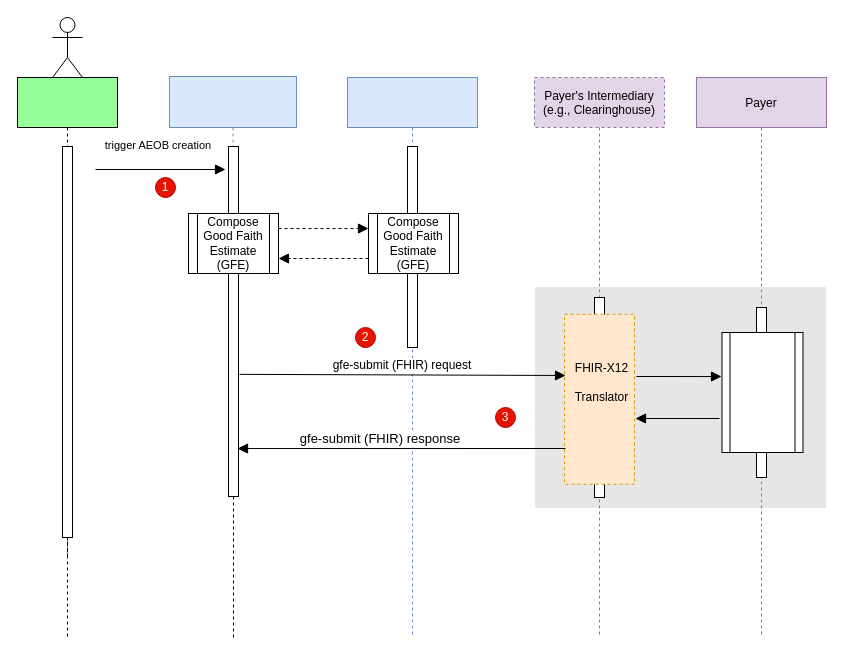
Some shapes in this 844 by 656 pixel diagram are drawn without their labels. The box of each missing label's shape, as (x1, y1, x2, y2) in pixels:
Compose AEOB: (721, 332, 803, 452)
Convening Provider / Facility: (168, 76, 296, 496)
Patient: (16, 76, 118, 558)
Secondary Providers / Facilities (if needed): (346, 76, 478, 638)
